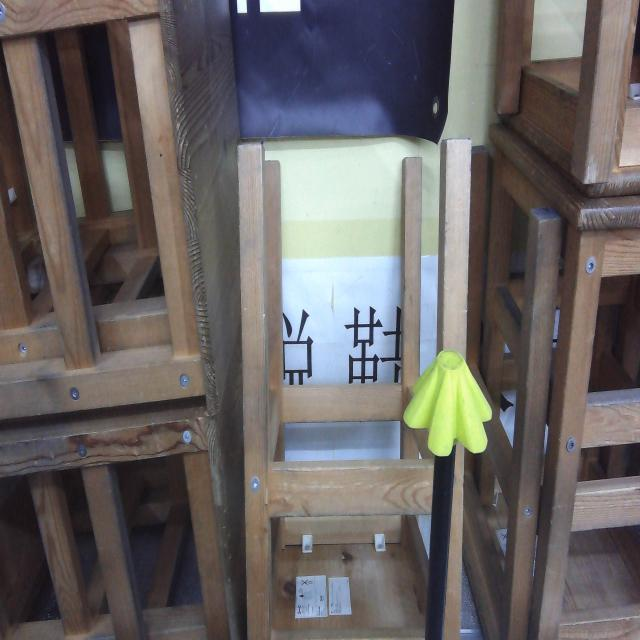Yellow-Stake-Head: (403, 349, 492, 457)
